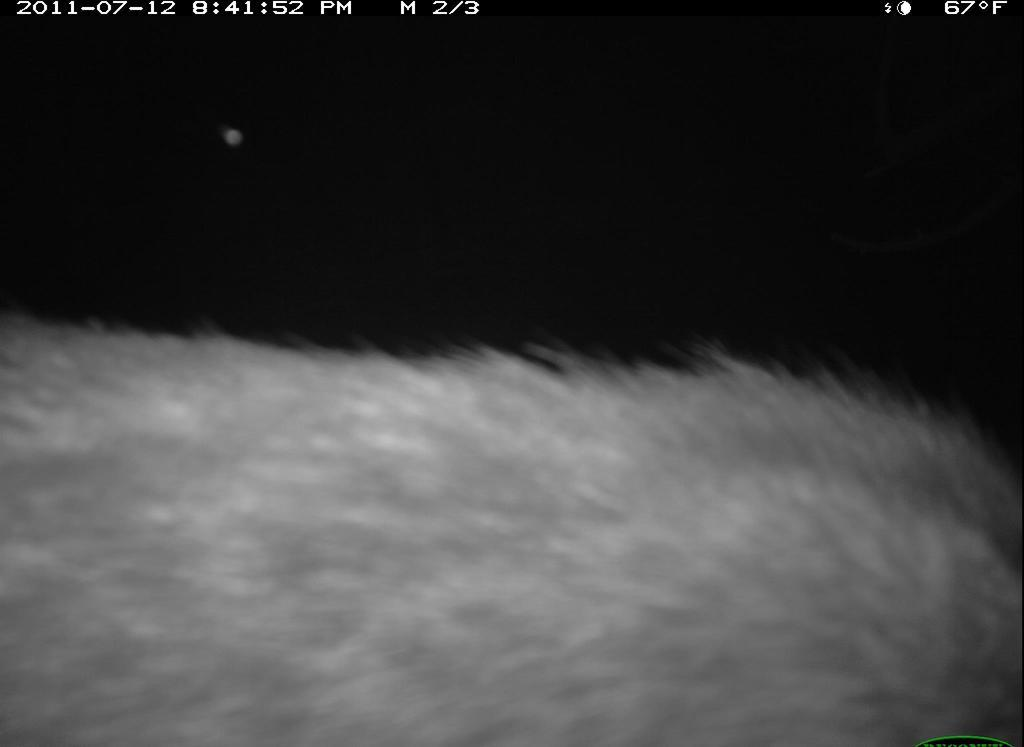raccoon: (3, 297, 1019, 742)
